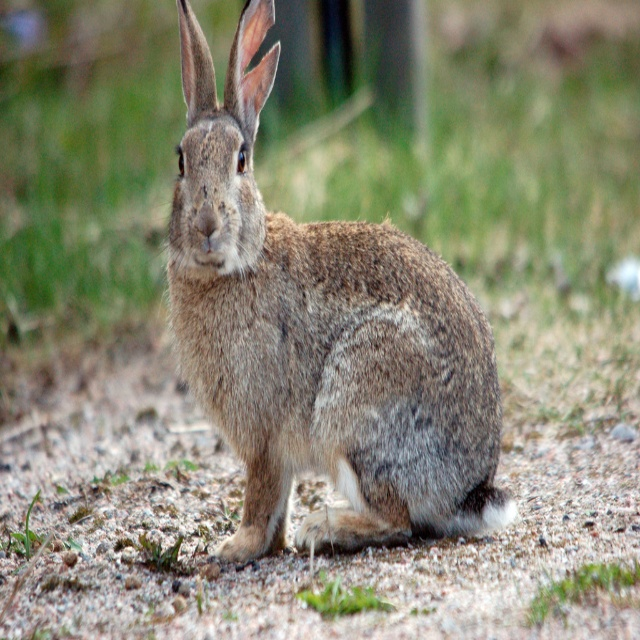Rabbit: (128, 0, 518, 565)
